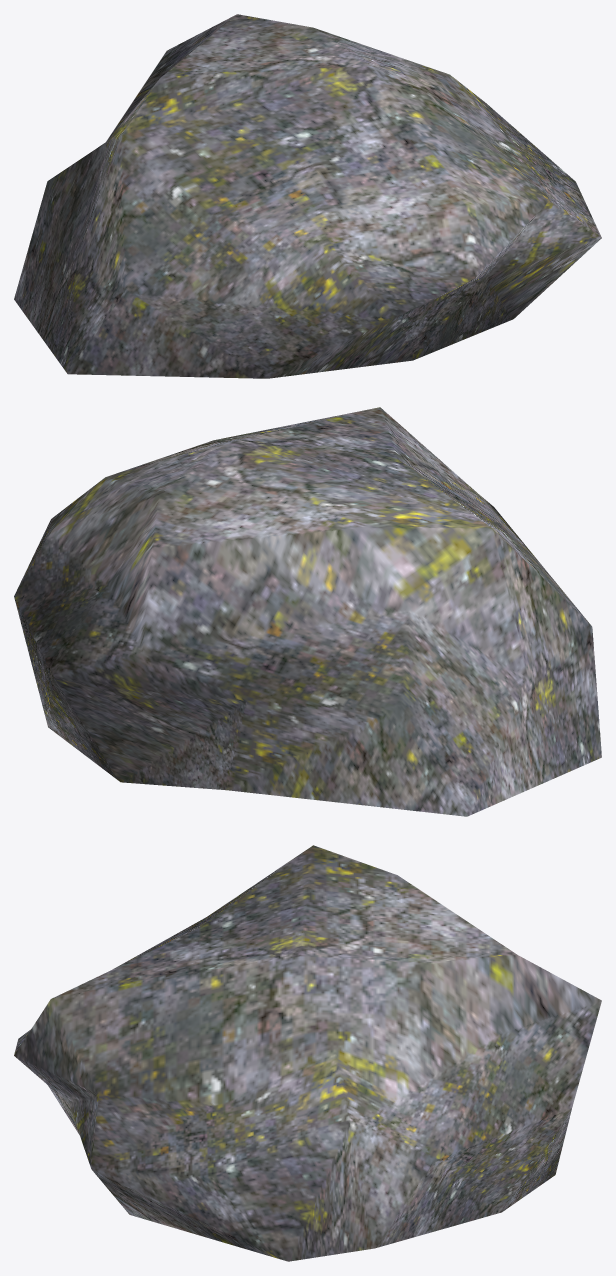
The model's file is rock_weatheredmossy_medium_a4_l0.fbx.
3 renders of one model, top to bottom at view 1: azimuth 30°, elevation 25°; view 2: azimuth 150°, elevation 25°; view 3: azimuth 270°, elevation 25°, orthographic. The views are drawn at different scales.
Parts seen in each view (by area): view 1: mesh_node; view 2: mesh_node; view 3: mesh_node.
Part boxes in pixels (bbox=[...]): mesh_node: bbox=[14, 14, 601, 378]; mesh_node: bbox=[14, 407, 601, 816]; mesh_node: bbox=[14, 845, 601, 1261].
Bounding box in the file's own units: 0.486 × 0.2082 × 0.4751.
1 material, 1 textured.
